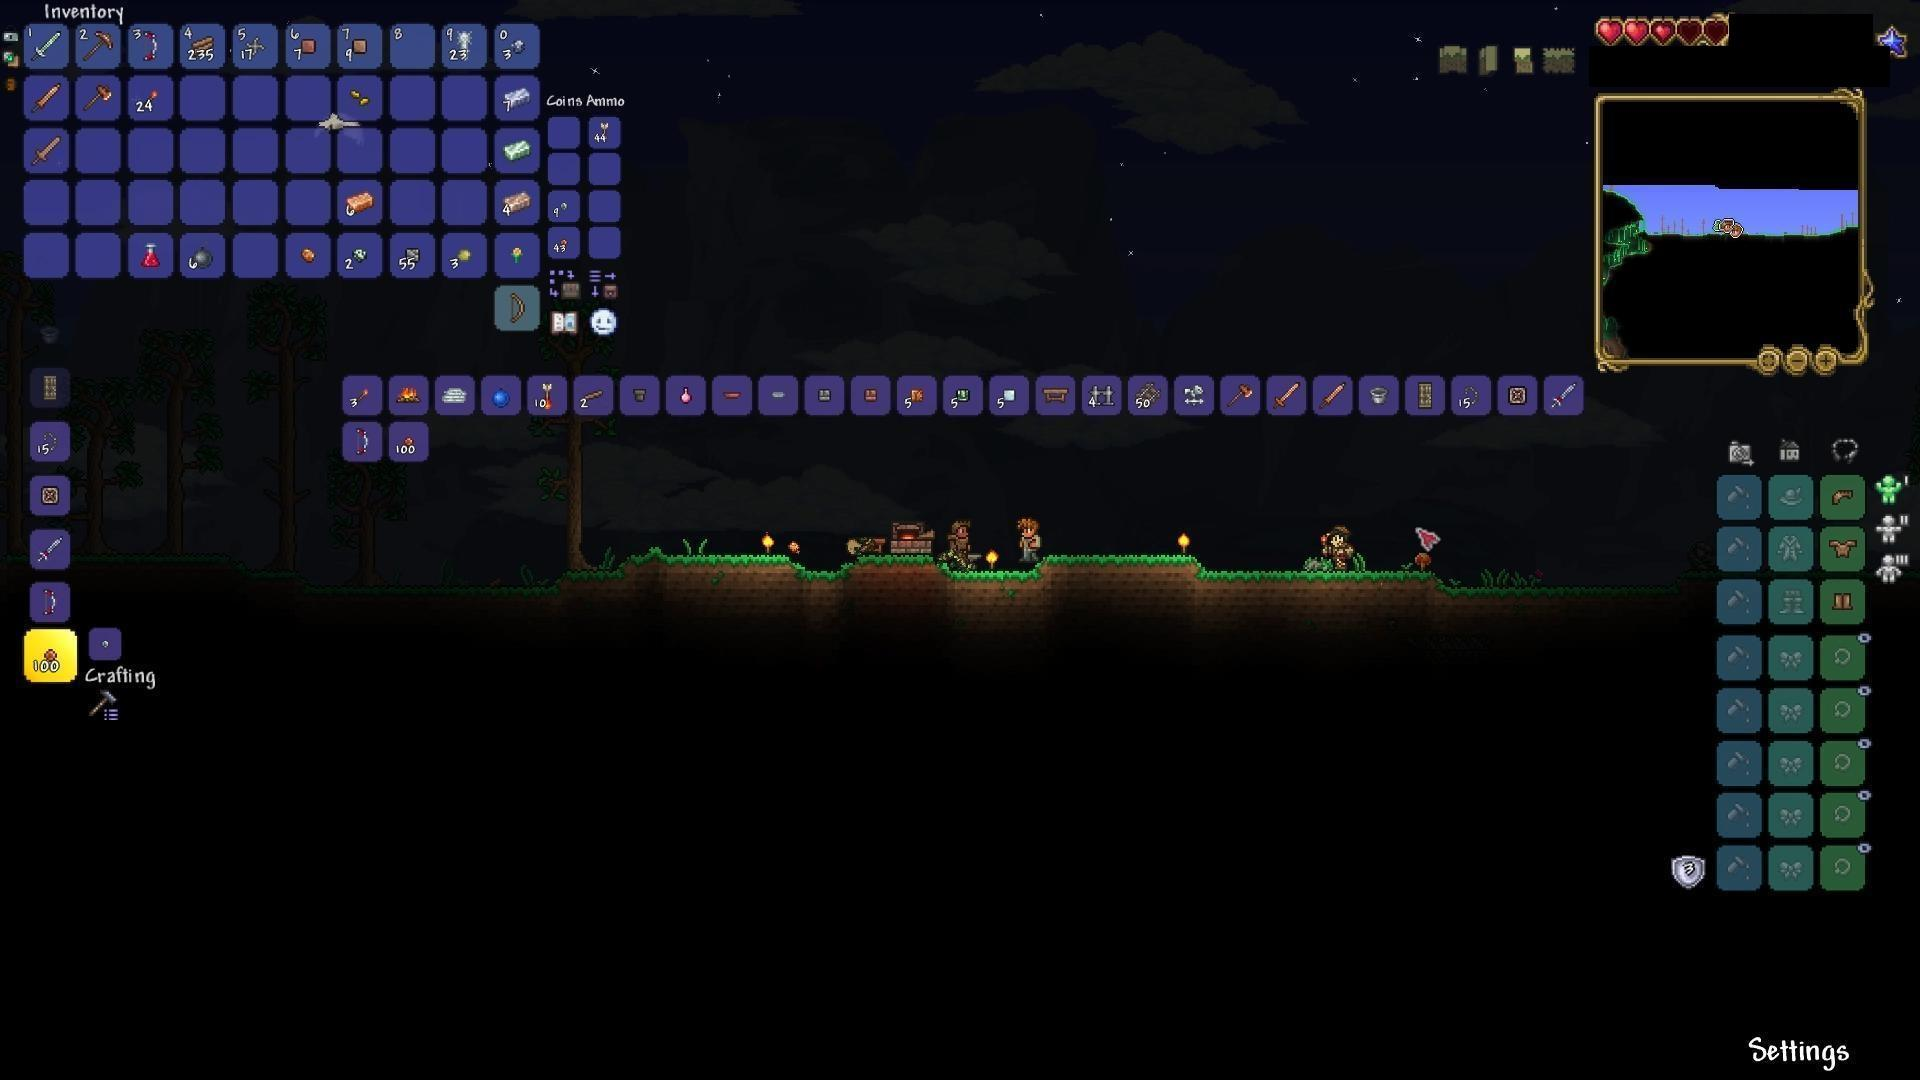dirt: (1188, 567, 1420, 620), (778, 546, 948, 607), (485, 549, 647, 605), (1047, 554, 1208, 596), (1414, 570, 1556, 615), (646, 550, 794, 582), (945, 567, 1047, 596)
heart: (1593, 16, 1626, 46), (1625, 15, 1651, 44)
